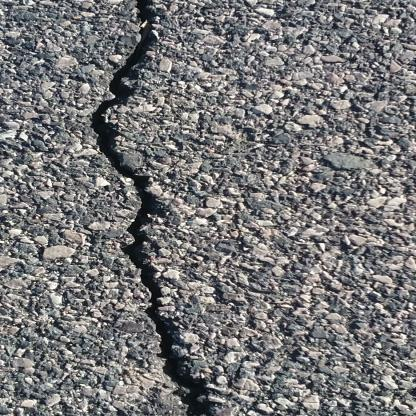Cracks: (88, 0, 236, 416)
